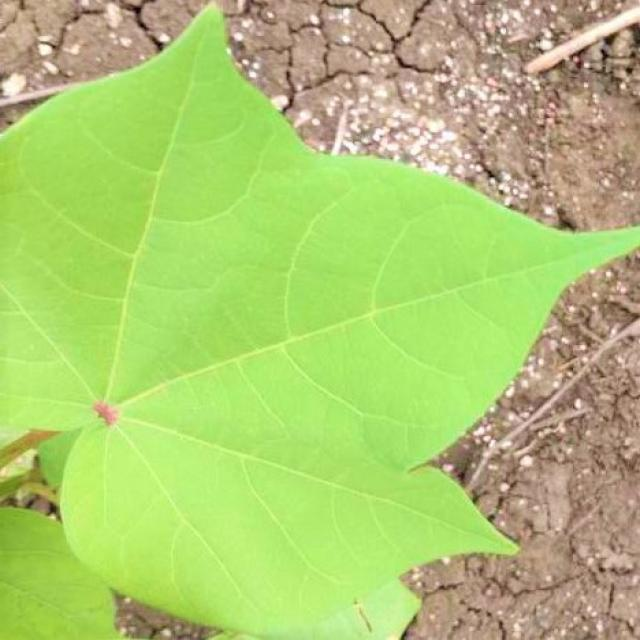Healthy Leaf: (2, 11, 638, 640)
